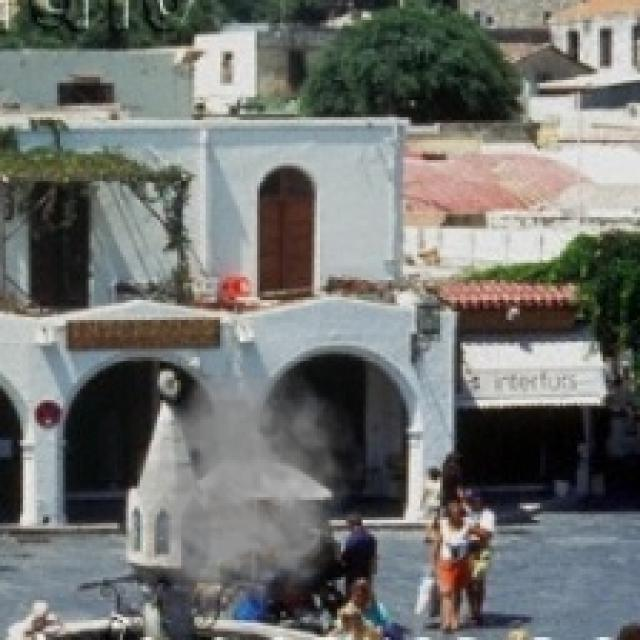Smoke: (134, 340, 369, 620)
